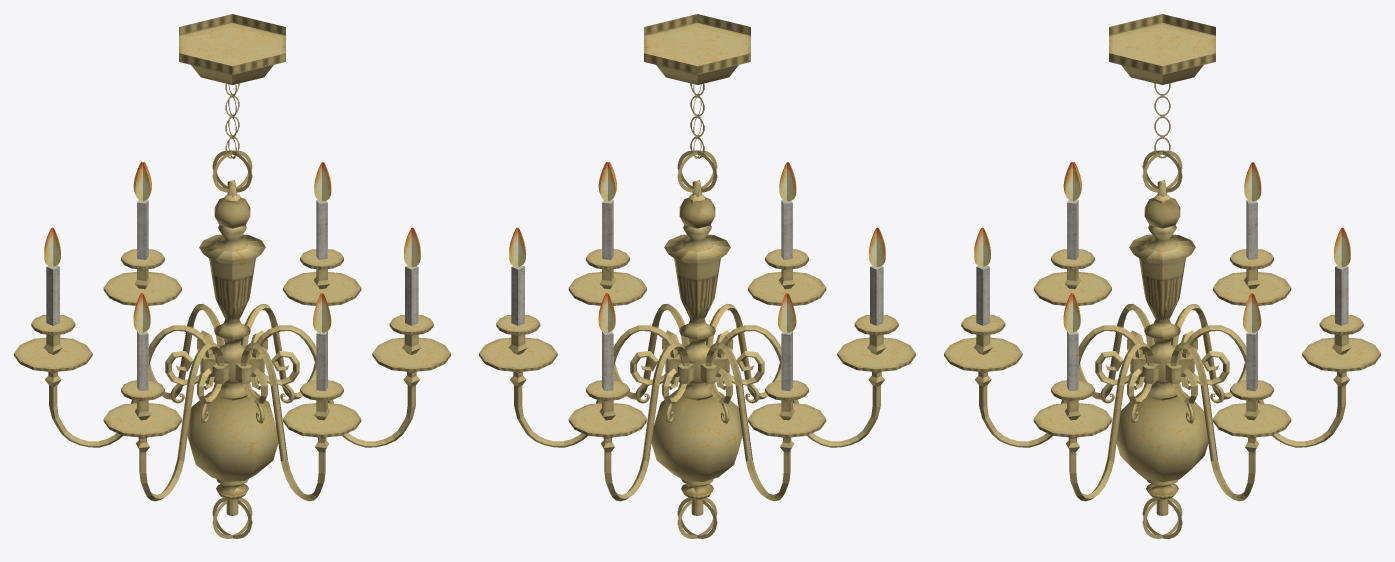
File: chandelier_01.fbx
The picture shows the model from 3 angles, left to right: view 1: azimuth 30°, elevation 25°; view 2: azimuth 150°, elevation 25°; view 3: azimuth 270°, elevation 25°; orthographic projection.
Visible parts, largest first — view 1: chandelier_01; view 2: chandelier_01; view 3: chandelier_01.
Boxes of the visible parts, x1,y1,x2,y2 form: chandelier_01: (14, 14, 450, 538); chandelier_01: (479, 14, 915, 538); chandelier_01: (944, 14, 1380, 538).
Bounding box in the file's own units: 1.19 × 1.69 × 1.34.
